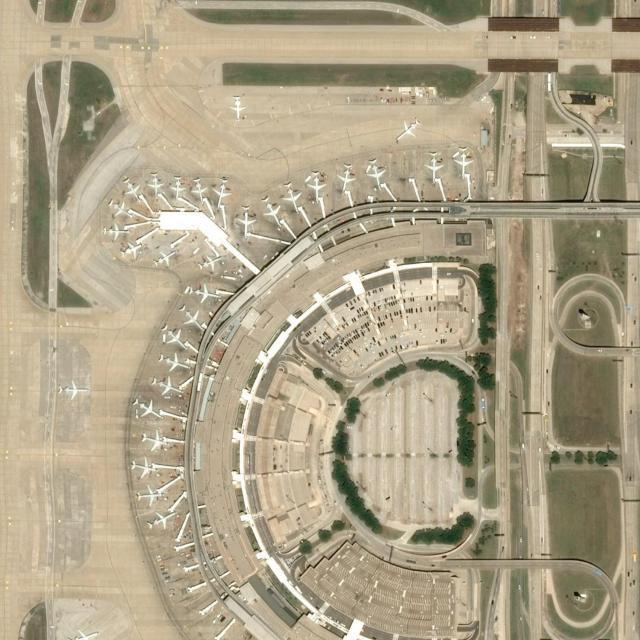Aircraft: (160, 324, 190, 352), (150, 375, 185, 397), (132, 396, 162, 420), (146, 510, 178, 532), (157, 353, 193, 372), (234, 207, 256, 238), (280, 182, 304, 210), (128, 455, 158, 477), (139, 430, 172, 450), (396, 116, 422, 140), (260, 197, 283, 224), (133, 485, 164, 505), (188, 282, 219, 302), (178, 304, 202, 328), (337, 163, 356, 193), (59, 380, 87, 400), (366, 157, 386, 185), (424, 153, 444, 181), (212, 177, 230, 207), (107, 199, 135, 218), (307, 171, 325, 200), (190, 178, 209, 205), (453, 147, 472, 173), (227, 94, 246, 120), (197, 253, 224, 271), (169, 175, 187, 202), (121, 177, 141, 200), (121, 241, 143, 261), (152, 248, 177, 265), (68, 627, 100, 640), (148, 172, 164, 198), (102, 223, 126, 240)
